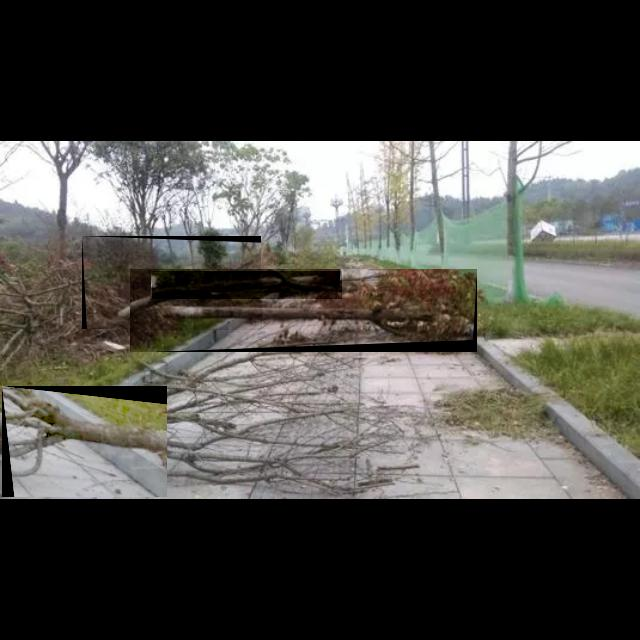Fallen Tree: (130, 269, 478, 353), (2, 386, 168, 498), (82, 236, 262, 330), (152, 271, 342, 299)
